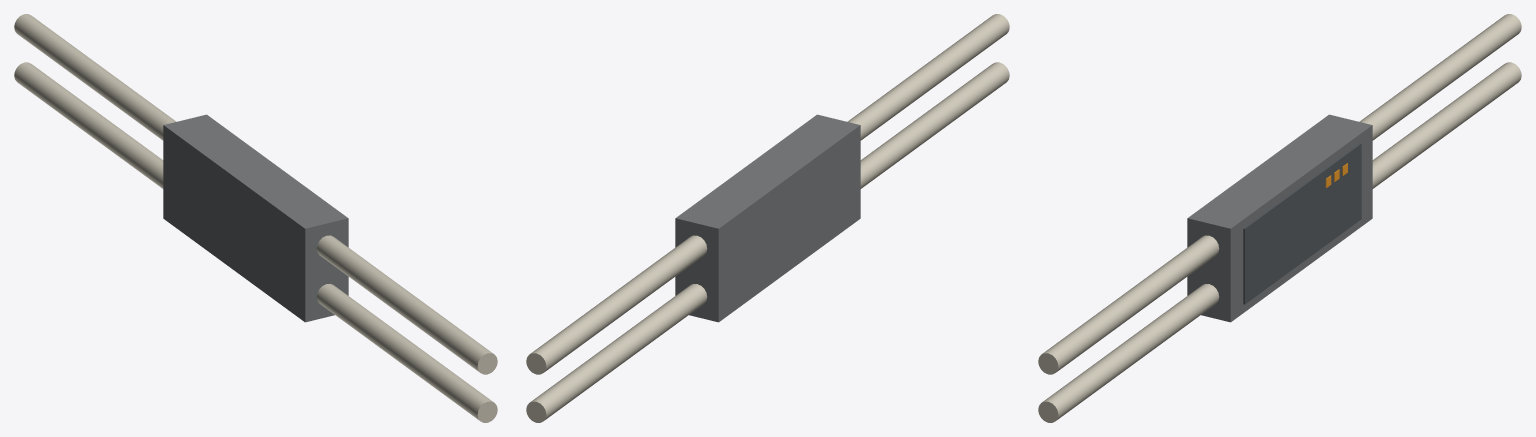
File: th_inverter.obj
3 views of the same model, side by side, from view 1: azimuth 30°, elevation 25°; view 2: azimuth 150°, elevation 25°; view 3: azimuth 330°, elevation 25° (orthographic).
Parts seen in each view (by area): view 1: th_inverter; view 2: th_inverter; view 3: th_inverter.
Boxes of the visible parts, <box> form: th_inverter: <box>14,14,497,422</box>; th_inverter: <box>526,14,1009,422</box>; th_inverter: <box>1038,14,1521,422</box>.
Bounding box in the file's own units: 0.316 × 0.62 × 5.56.
